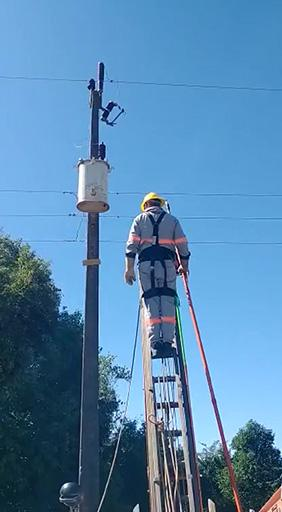Vara_Manobra: (164, 204, 242, 512)
